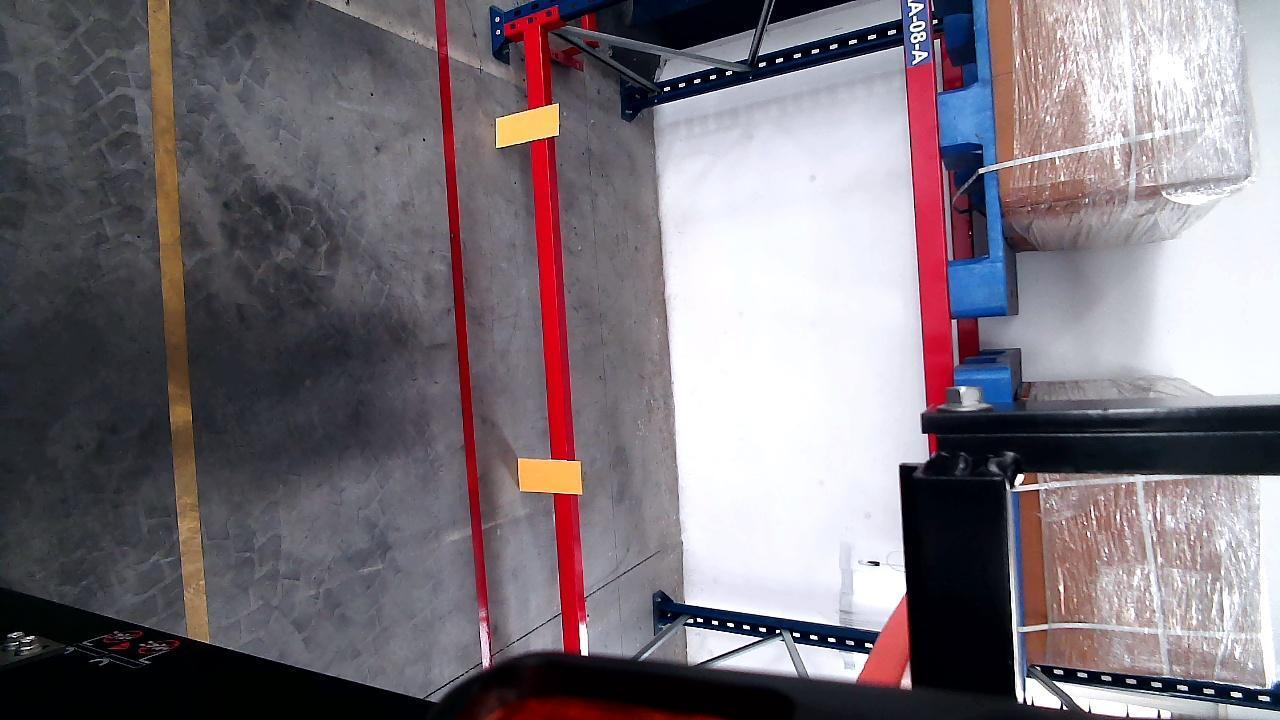h_rack: (525, 29, 583, 649)
orange_strip: (494, 105, 558, 146), (518, 457, 582, 494)
red_line: (430, 2, 489, 667)
small_pallet: (932, 0, 1007, 319)
yellow_line: (147, 0, 210, 641)
